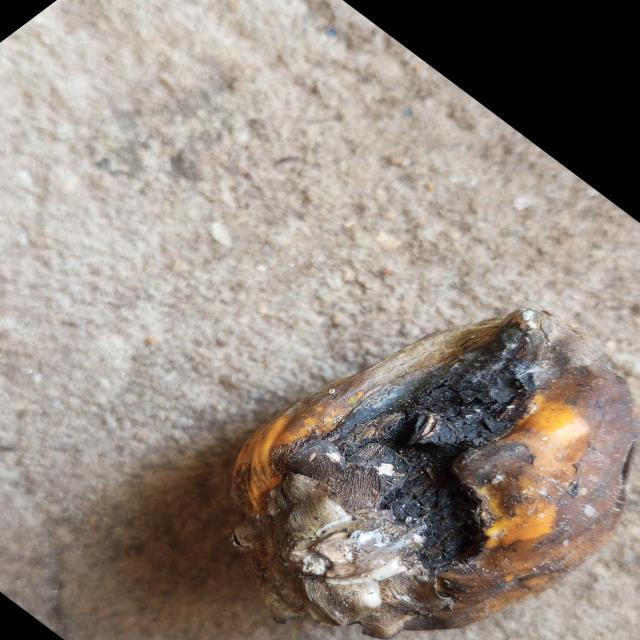damaged: (232, 309, 633, 640)
